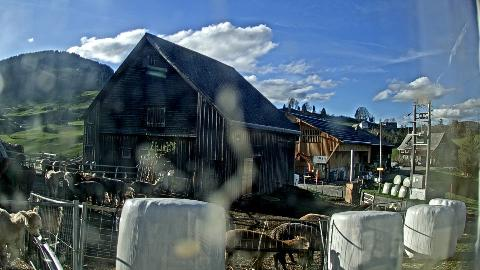car: (361, 171, 375, 181), (390, 165, 400, 173), (418, 160, 426, 166)
sheep: (224, 228, 310, 270), (270, 222, 328, 270), (0, 208, 42, 264), (298, 213, 332, 267), (64, 172, 104, 206), (73, 173, 105, 205), (101, 176, 129, 204), (131, 177, 164, 199), (99, 177, 121, 207), (44, 170, 66, 198), (24, 166, 36, 194), (348, 205, 377, 211), (359, 204, 387, 210), (40, 158, 50, 174), (64, 164, 80, 172), (52, 161, 61, 171), (388, 203, 398, 211), (48, 161, 54, 171)
